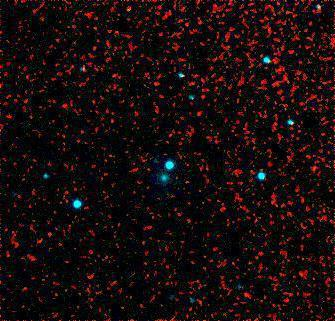star: (117, 0, 147, 25)
